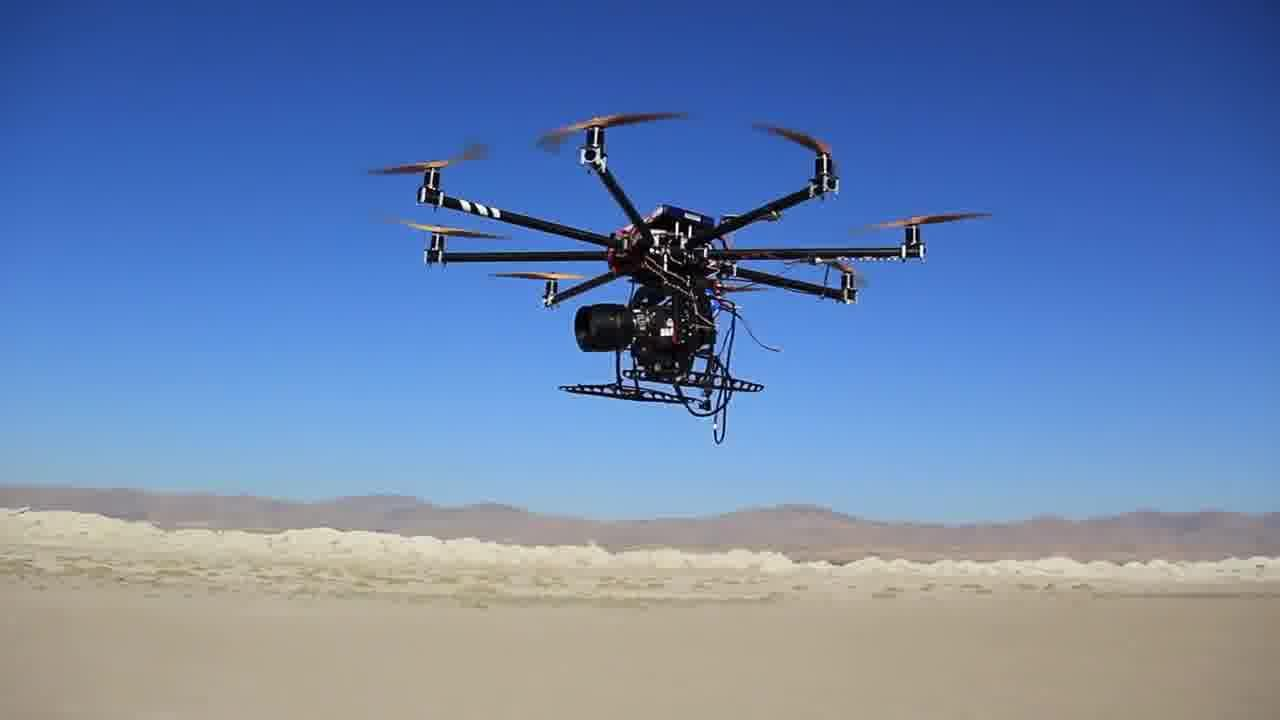drone: (370, 80, 851, 419)
